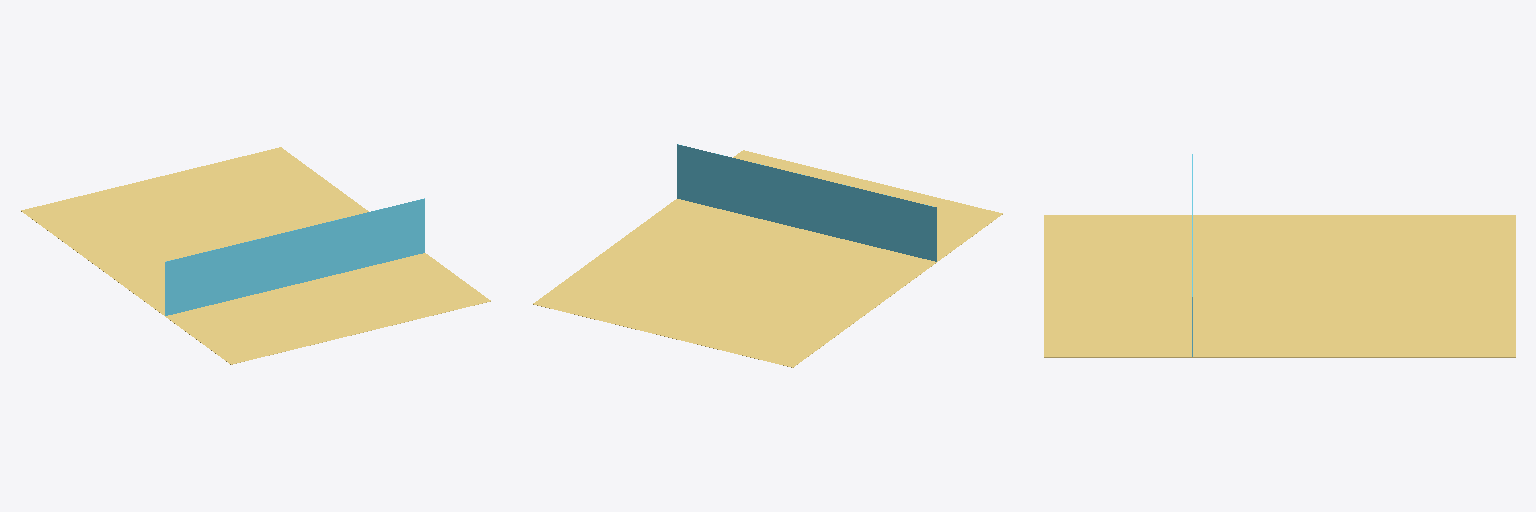
The robot description file, URDF, robot "floor":
<?xml version="1.0"?>
<robot name="floor">
  <link name="obstacle_base">
    <visual>
      <origin xyz="0 0 0"/>
      <geometry>
        <box size="0.001 0.001 0.001"/>
      </geometry>
    </visual>
  </link>

  <joint name="j_floor" type="fixed">
    <parent link="obstacle_base"/>
    <child link="l_floor"/>
    <origin xyz="0 0 0"/>
  </joint>
        
  <link name="l_floor">
    <visual>
      <origin xyz="0 0 0"/>
      <geometry>
        <box size="10 14 0.005"/>
      </geometry>
      <material name="color">
        <color rgba="1 0.9 0.6 1"/>
      </material>
    </visual>
    <collision>
      <origin xyz="0 0 0"/>
      <geometry>
        <box size="10 10 0.005"/>
      </geometry>
    </collision>
  </link>

  <joint name="j_wall" type="fixed">
    <parent link="obstacle_base"/>
    <child link="l_wall"/>
    <origin xyz="0 0 0"/>
  </joint>
        
  <link name="l_wall">
    <visual>
      <origin xyz="0 -2.6 1"/>
      <geometry>
        <box size="10 0.005 2"/>
      </geometry>
      <material name="cyan">
        <color rgba="0.5 0.9 1 1"/>
      </material>
    </visual>
    <collision>
      <origin xyz="0 -2.6 1"/>
      <geometry>
        <box size="10 0.005 2"/>
      </geometry>
    </collision>
  </link>
</robot>

--- Render facts (derived) ---
3 views of the same robot in one strip: view 1: azimuth 30°, elevation 25°; view 2: azimuth 150°, elevation 25°; view 3: azimuth 270°, elevation 25° (orthographic).
Model floor with 3 links and 2 joints (2 fixed), rooted at obstacle_base, posed every joint at zero.
Visible links, largest first — view 1: l_floor, l_wall; view 2: l_floor, l_wall; view 3: l_floor.
Link boxes in pixels (x1,y1,x2,y2): l_floor: [21, 147, 490, 364]; l_wall: [165, 198, 424, 315]; l_floor: [533, 150, 1002, 367]; l_wall: [677, 144, 936, 261]; l_floor: [1044, 215, 1515, 357].
Bounding box of the posed robot: 10 × 14 × 2 m (x, y, z).
Geometry: primitives only (box / cylinder / sphere), no mesh files.